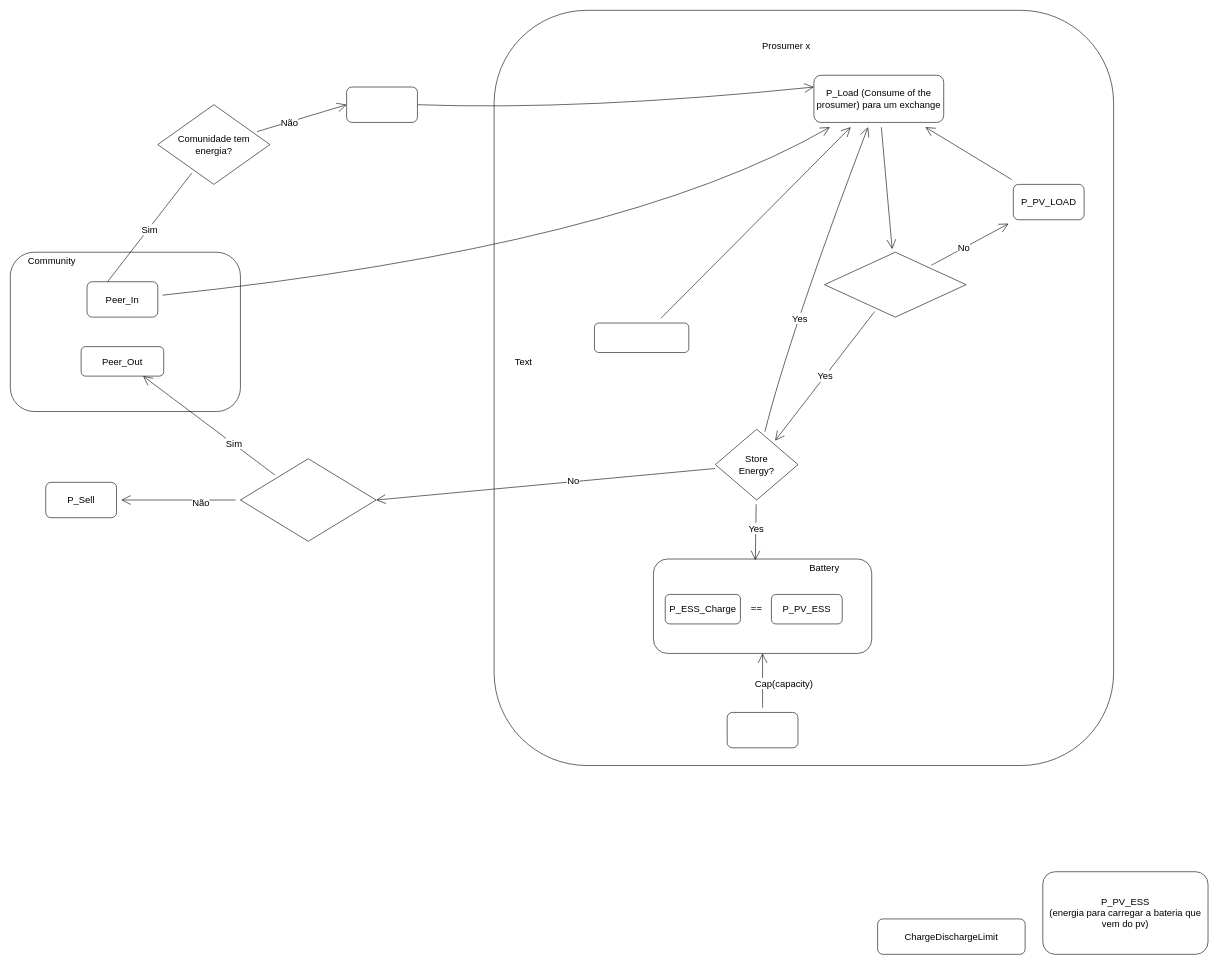
Some shapes in this 1218 by 965 pixel diagram are drawn without their labels. The centre of each missing label's shape, as x and y in pixels:
Comunidade precisa de energia?: point 308,499
P_Buy: point 381,104
P_ESS_Discharge: point 641,337
Produção > Consumo (P_Load < 0): point 895,284
SOC (bateria): point 762,730
